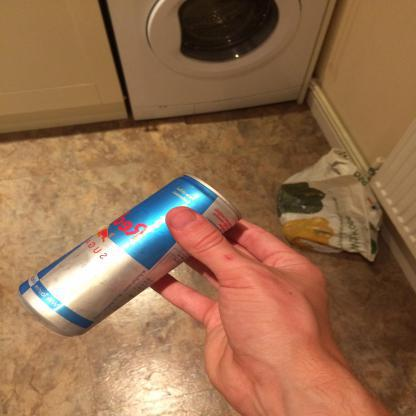metal: (17, 174, 246, 339)
plastik: (278, 148, 386, 264)
